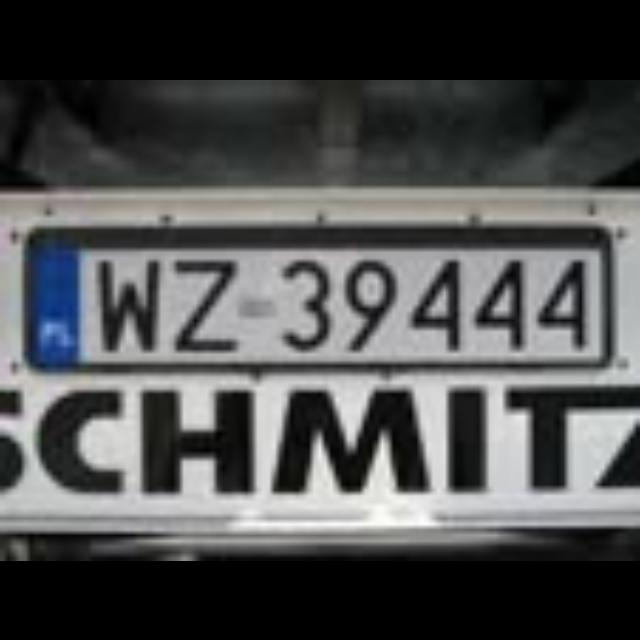pl_license_plate: (29, 238, 595, 356)
